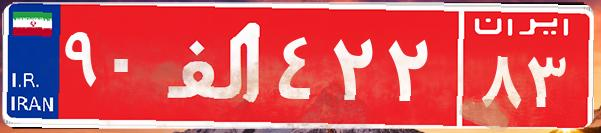0: (110, 28, 158, 105)
2: (385, 28, 445, 110), (330, 28, 385, 110)
3: (525, 38, 570, 115)
4: (273, 28, 330, 110)
8: (475, 38, 525, 113)
9: (57, 26, 110, 107)
الف: (158, 15, 273, 115)
